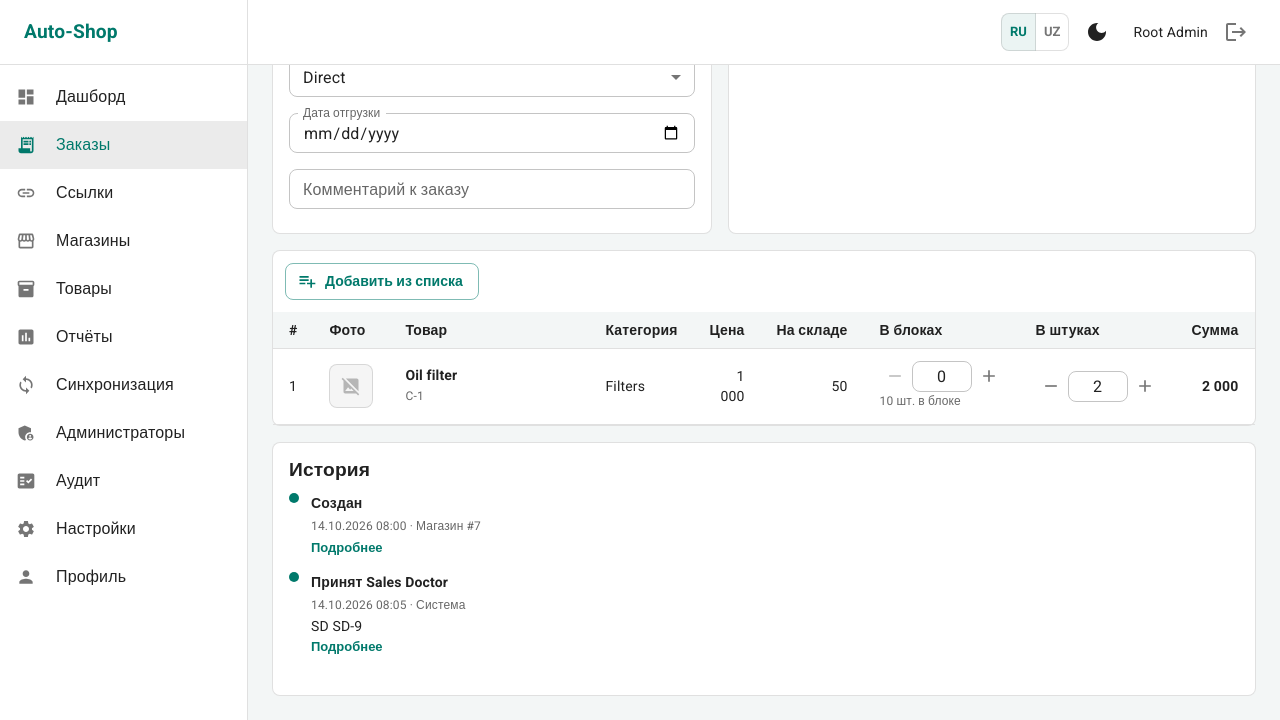
admin order detail › edits lines, saves with the version (re-sends to SD) and maps 422 errors inline
The width and height of the screenshot is (1280, 720).
(page scrolled)
Click the button named "В штуках: Oil filter +" at (1145, 386), box [1130,371,1160,401]
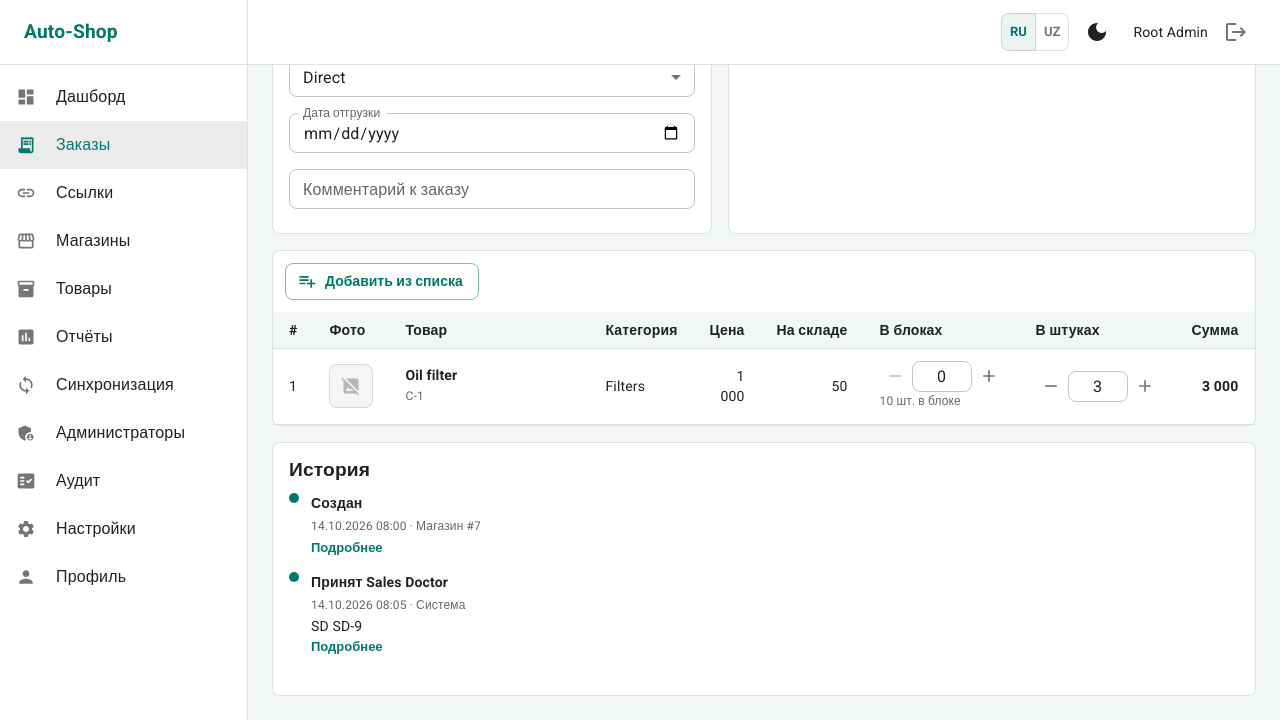
Click the button named "В штуках: Oil filter +" at (1145, 386), box [1130,371,1160,401]
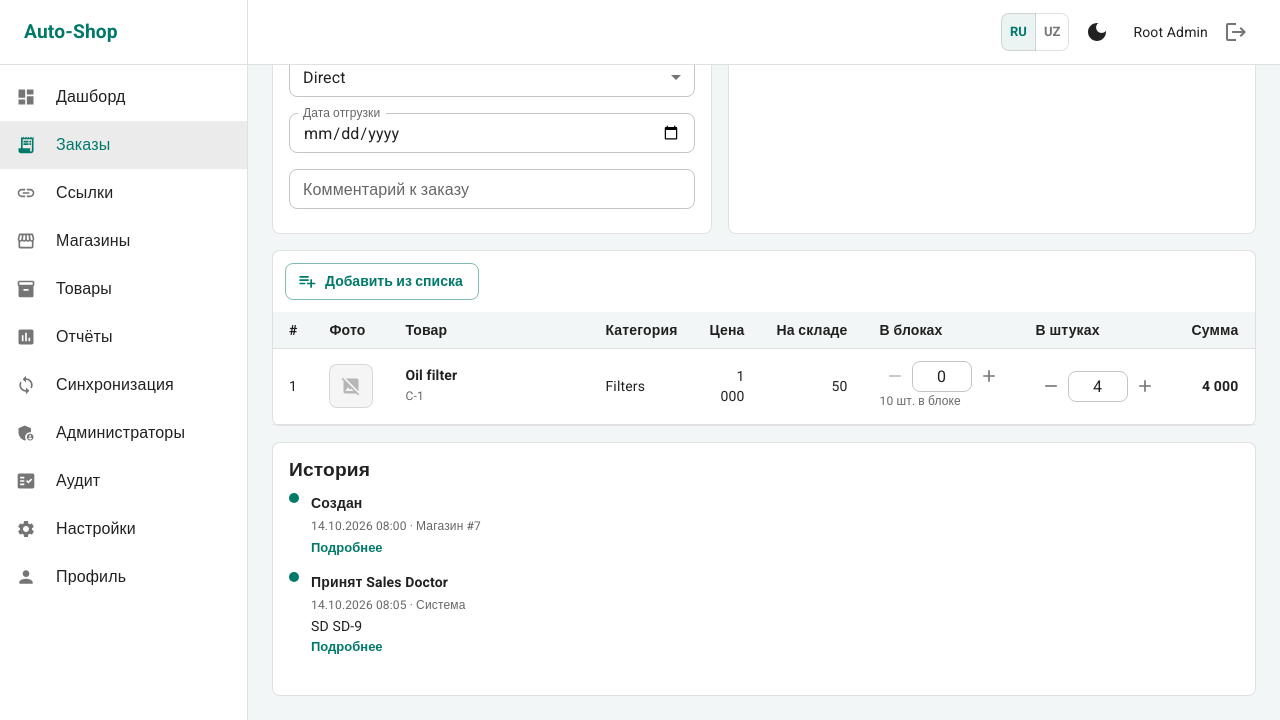
Click the button named "В штуках: Oil filter +" at (1145, 386), box [1130,371,1160,401]
(page scrolled)
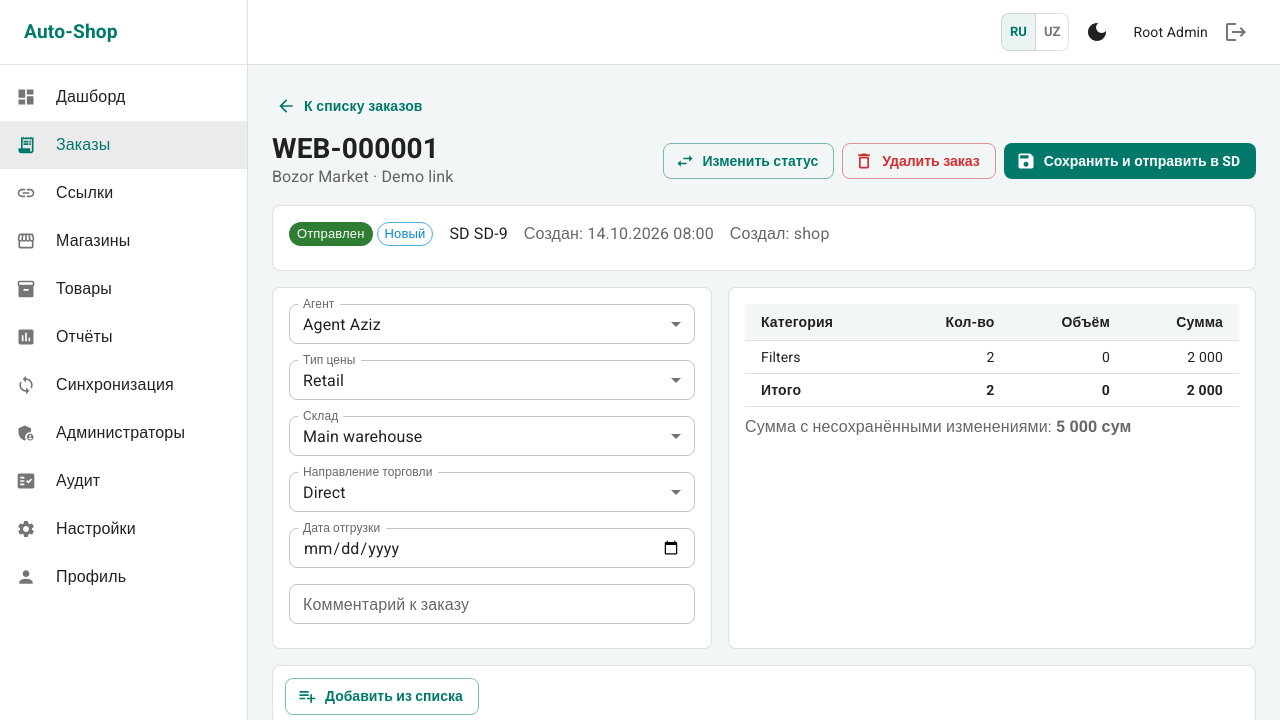
Expected: the element with test id "local-total" shows "5 000 сум", [745,417,1132,436]
Click the button "Сохранить и отправить в SD" at (1130, 161), box [1004,143,1256,179]
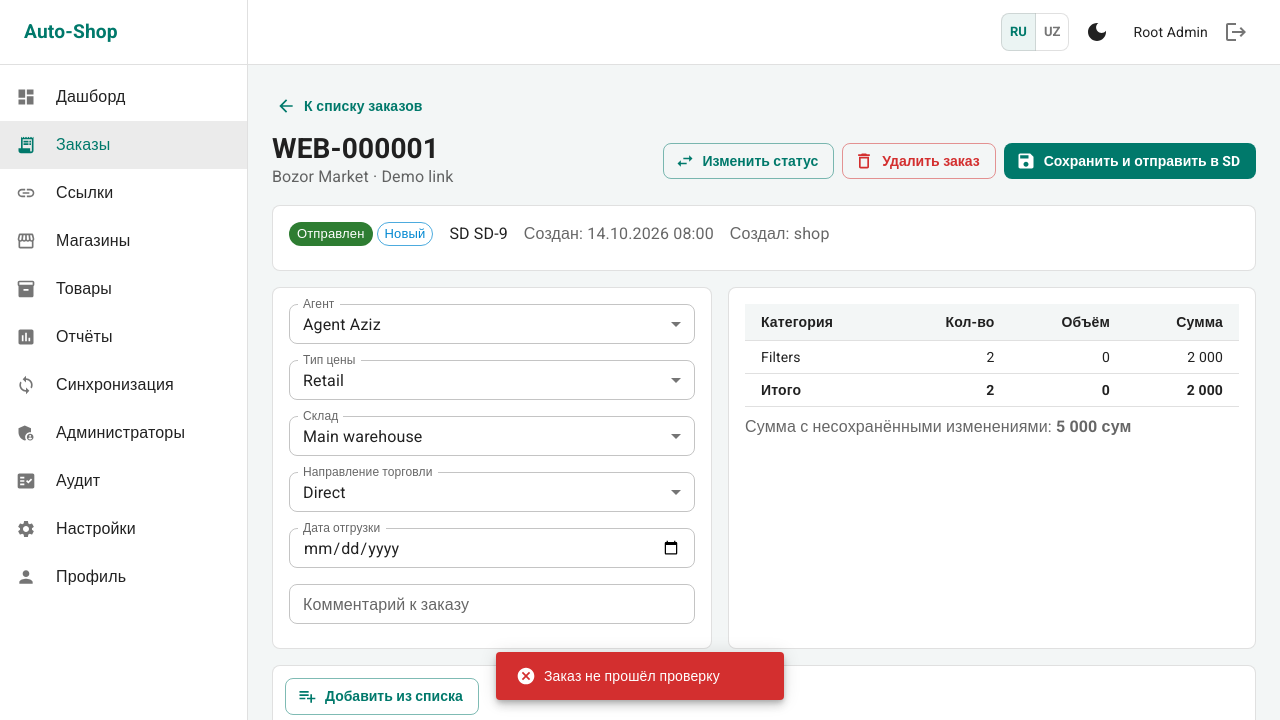
Click the button "Сохранить и отправить в SD" at (1130, 161), box [1004,143,1256,179]
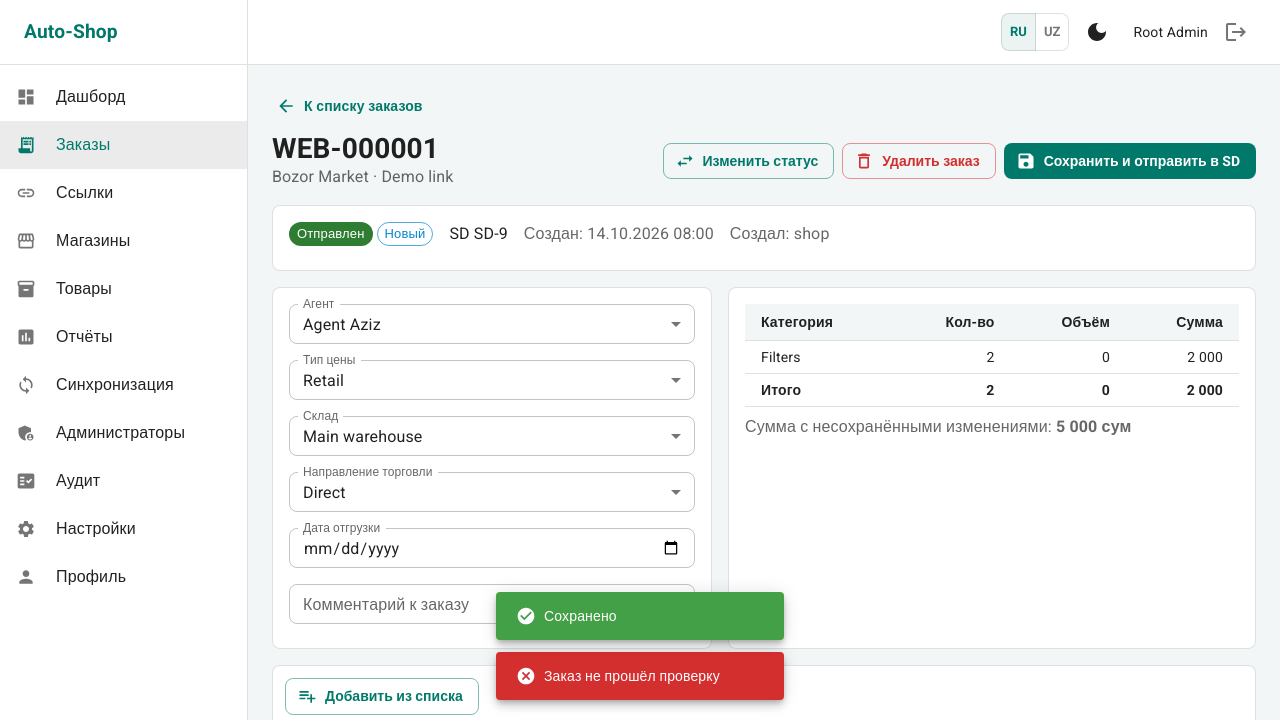
Expected: the text "Сохранено" is shown, [516,606,617,626]
